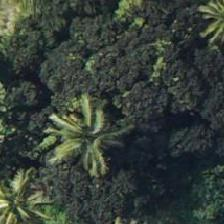coconut_tree: (43, 90, 133, 180), (0, 157, 59, 223)
